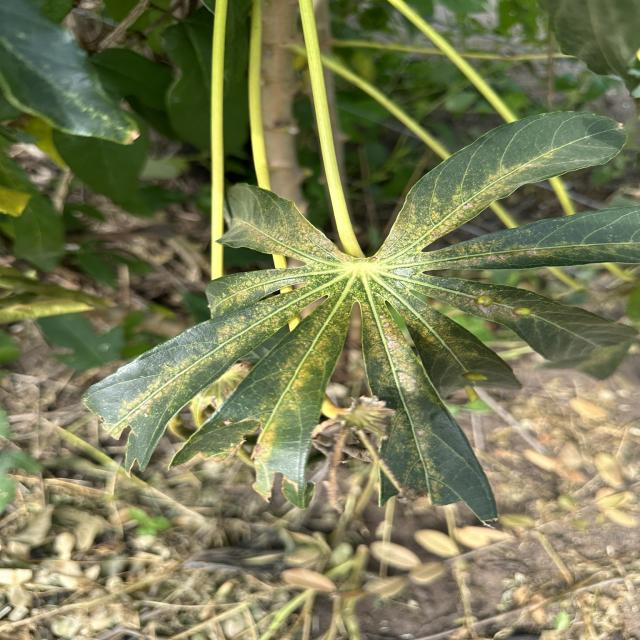Mosca: (449, 360, 500, 403), (498, 291, 538, 330), (462, 278, 502, 314)
